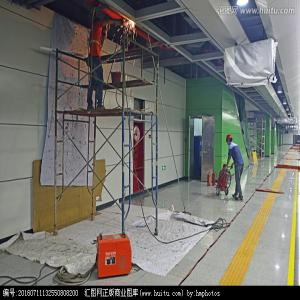red: (227, 135, 234, 146)
